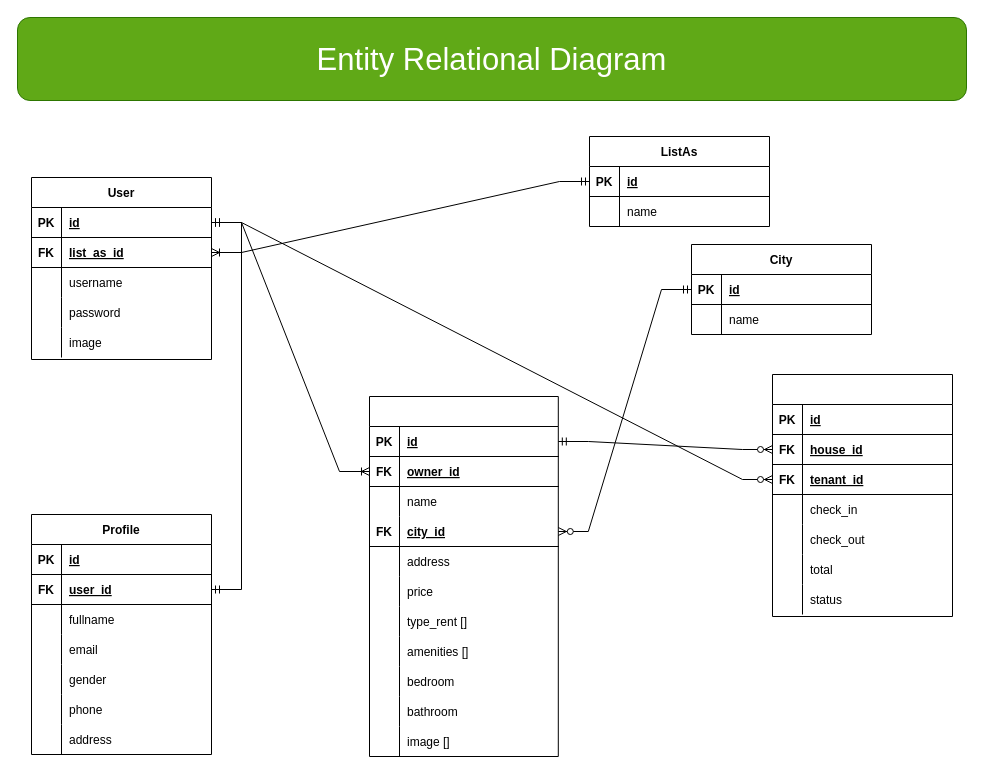
The diagram is 984 pixels wide and 774 high, and some of its shapes have lost their labels. Here are the shapes that lost their labels. From the top down, the box of each, then its label:
(772, 374, 952, 616): Transaction
(368, 396, 558, 756): Houses
